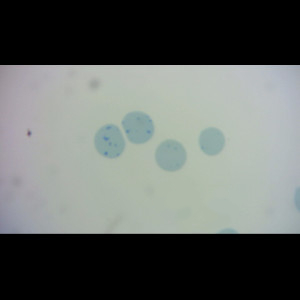aggregate reticulocyte: (93, 123, 126, 159)
punctate reticulocyte: (120, 110, 156, 145), (153, 138, 189, 173), (197, 126, 227, 157)
